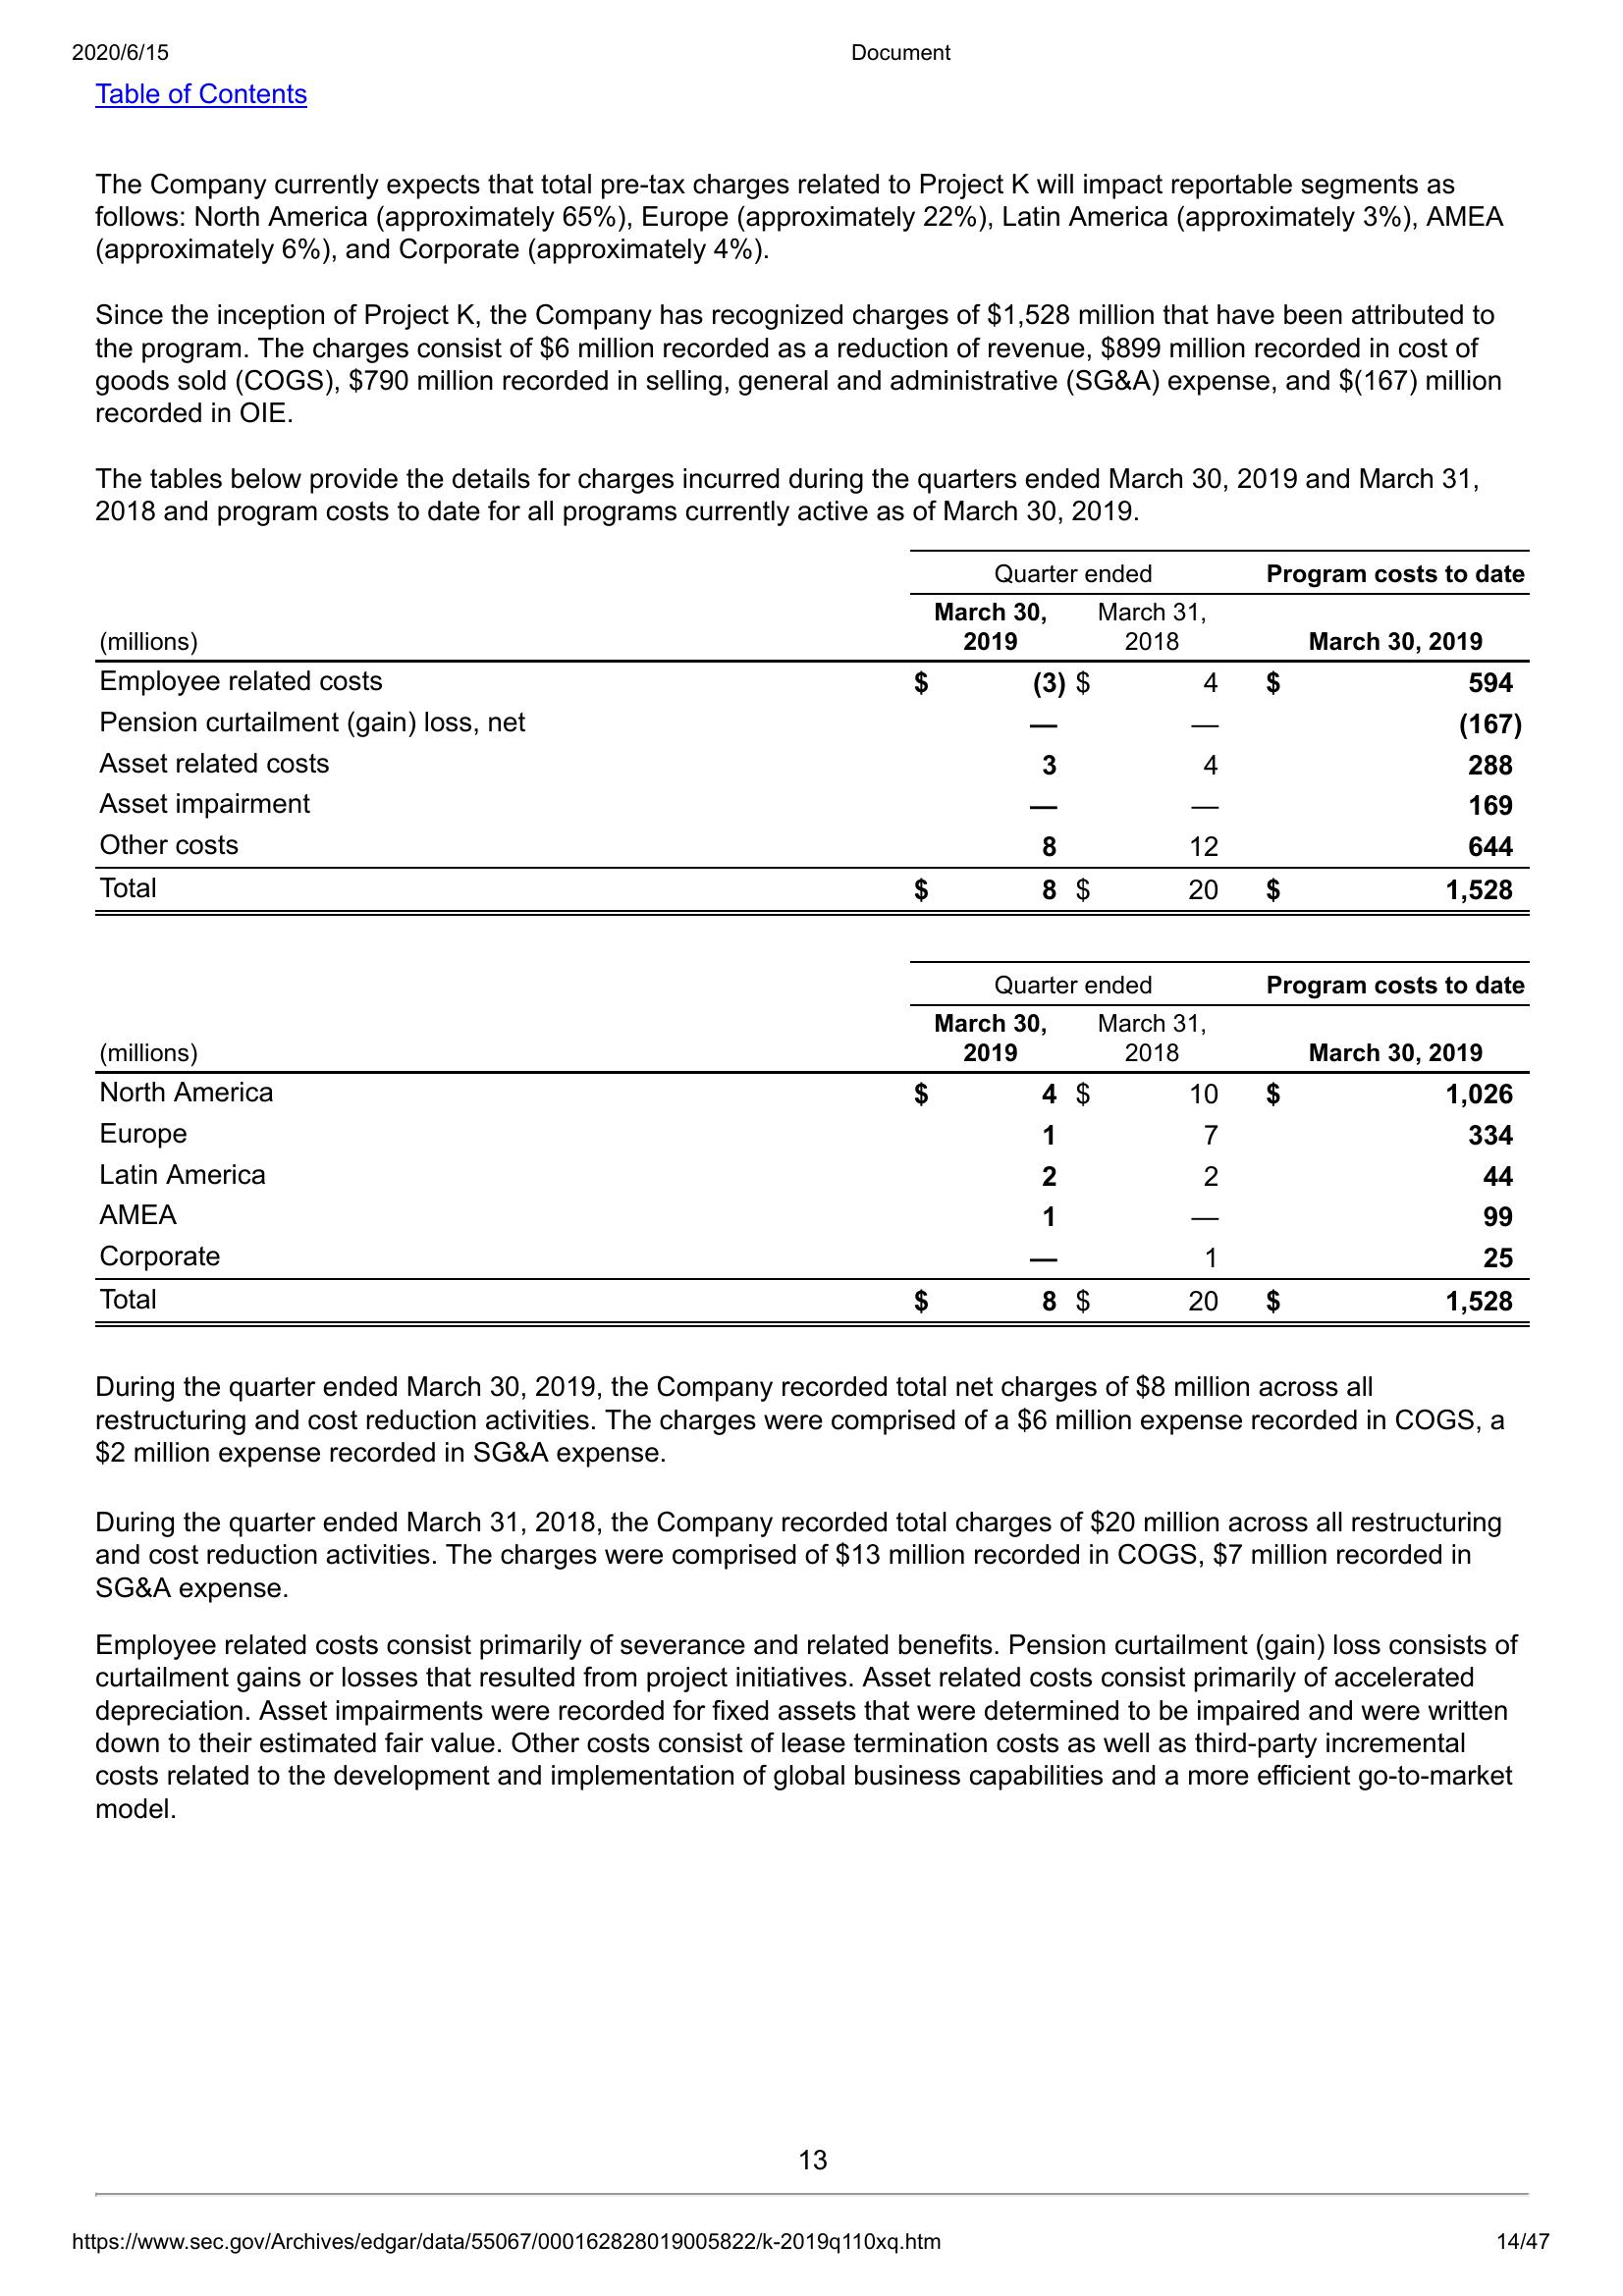table: (88, 951, 1539, 1336), (93, 542, 1537, 923)
